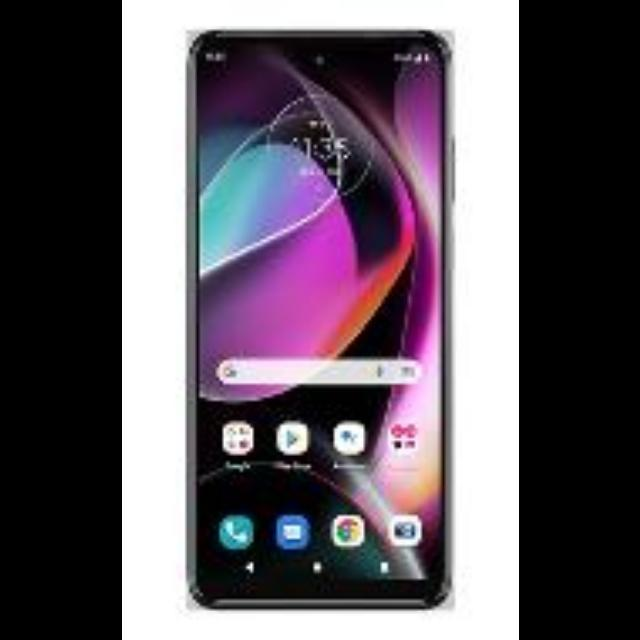PhoneUse: (186, 27, 454, 613)
